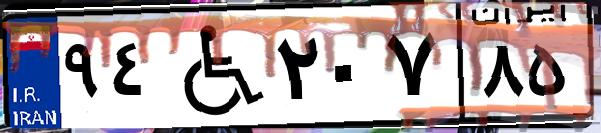0: (330, 28, 385, 110)
2: (270, 28, 330, 110)
4: (110, 28, 158, 98)
5: (525, 38, 570, 115)
7: (385, 28, 445, 110)
8: (475, 38, 525, 113)
9: (57, 26, 110, 100)
ژ (معلولین و جانبازان): (158, 12, 270, 120)
